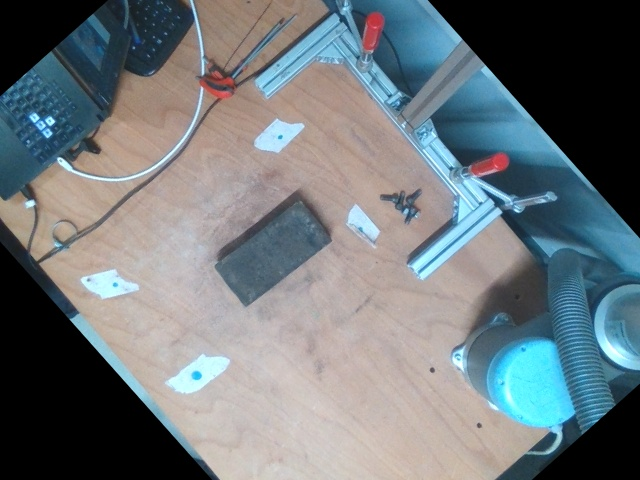brick: (214, 200, 331, 306)
